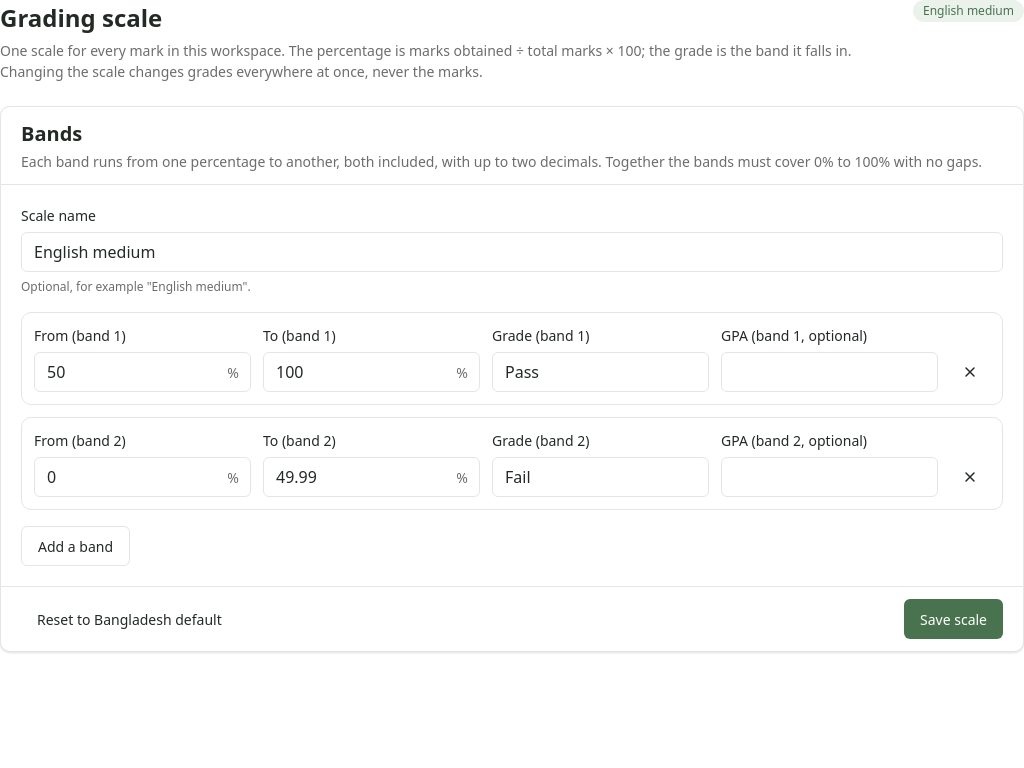
Scenario: grading scale page › goes back to the Bangladesh default after confirming
This screenshot has width=1024, height=768.
What coordinates should you click on to do the following:
click the button "Reset to Bangladesh default"
I would click on:
 (129, 619)
Its box is [21,599,238,639].
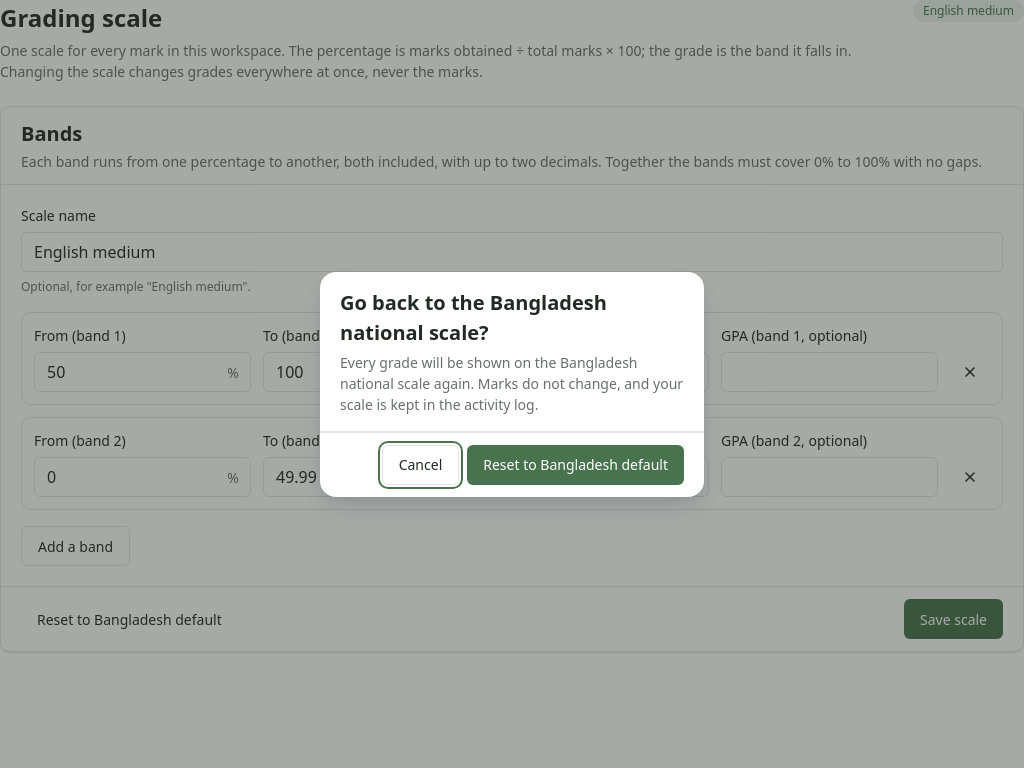
What coordinates should you click on to do the following:
click the button "Reset to Bangladesh default"
I would click on:
 (576, 464)
Its box is [467,444,684,484].
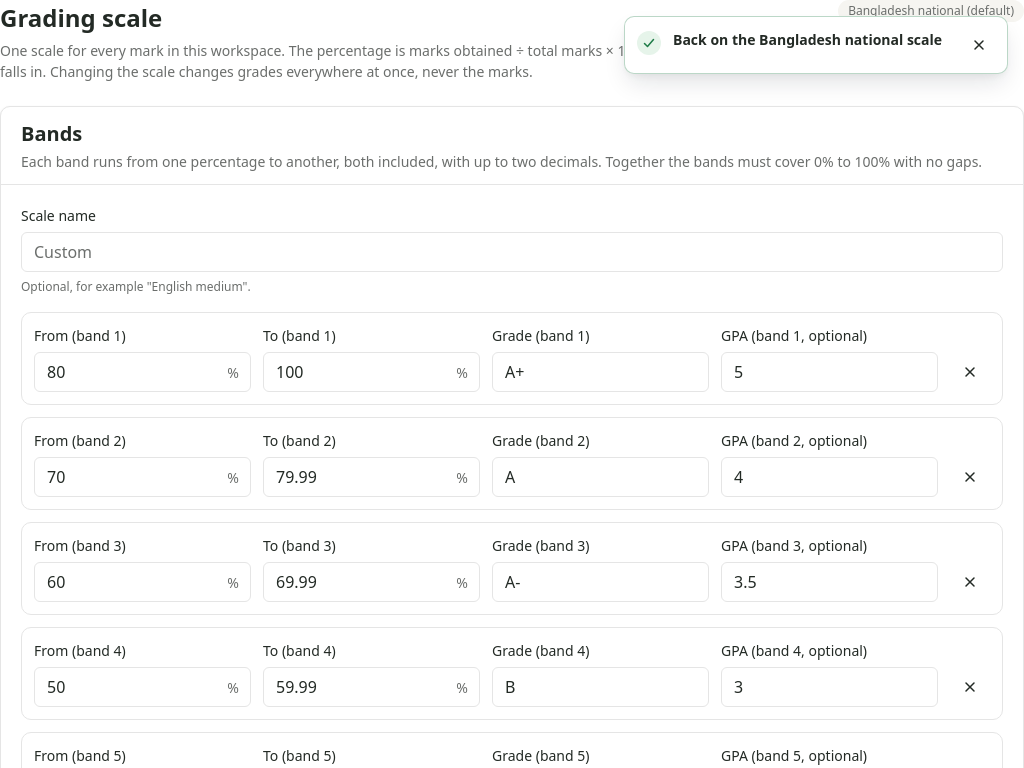
Now the text "Bangladesh national (default)" is shown, box [848,2,1014,20]
